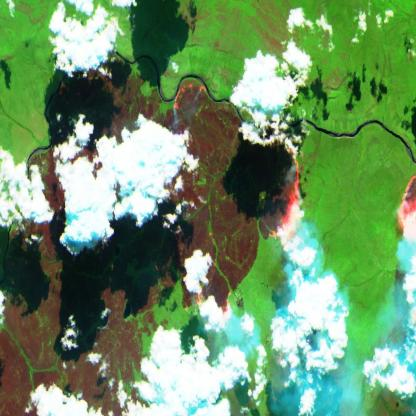fire: (266, 137, 314, 259), (390, 162, 416, 244), (183, 287, 232, 324), (170, 80, 212, 113)
